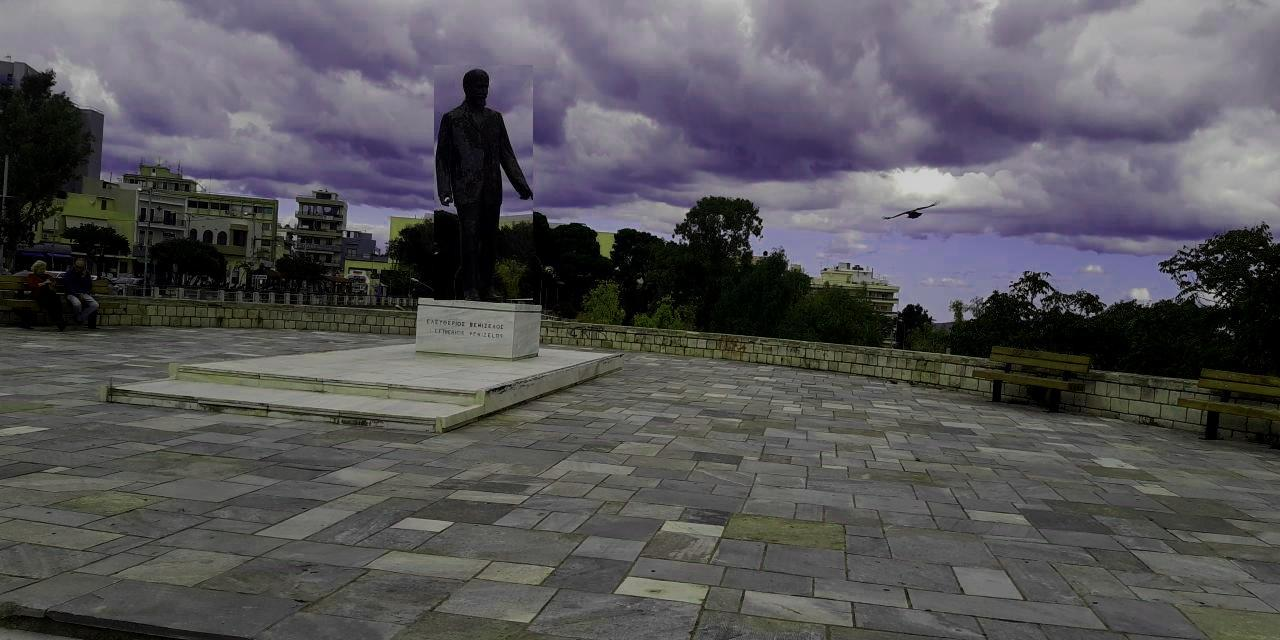Venizelos: (435, 66, 534, 301)
